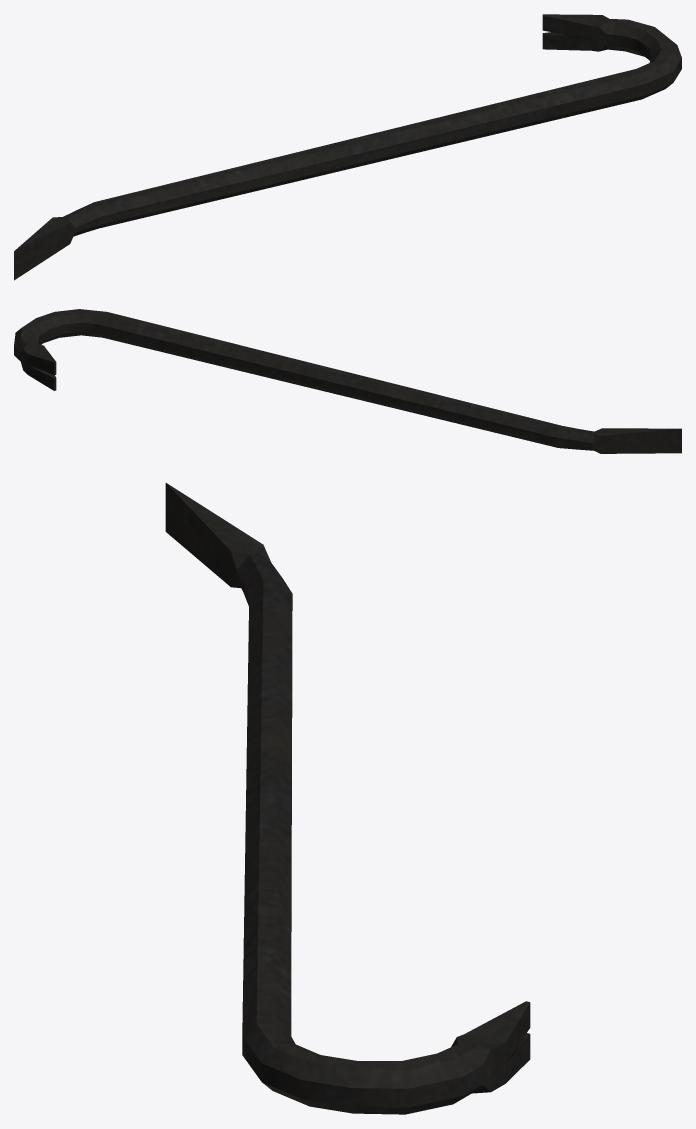
File: rusty_crowbar_mx_1_1.obj
3 renders of one model, top to bottom at view 1: azimuth 30°, elevation 25°; view 2: azimuth 150°, elevation 25°; view 3: azimuth 270°, elevation 25°, orthographic. The views are drawn at different scales.
Visible parts, largest first — view 1: rusty_crowbar_mx_1_1; view 2: rusty_crowbar_mx_1_1; view 3: rusty_crowbar_mx_1_1.
Part boxes in pixels (x1=…): rusty_crowbar_mx_1_1: x1=14, y1=14, x2=681, y2=280; rusty_crowbar_mx_1_1: x1=14, y1=309, x2=681, y2=453; rusty_crowbar_mx_1_1: x1=165, y1=483, x2=530, y2=1114.
Size of the model in its own units: 1 by 0.045 by 0.2615.
